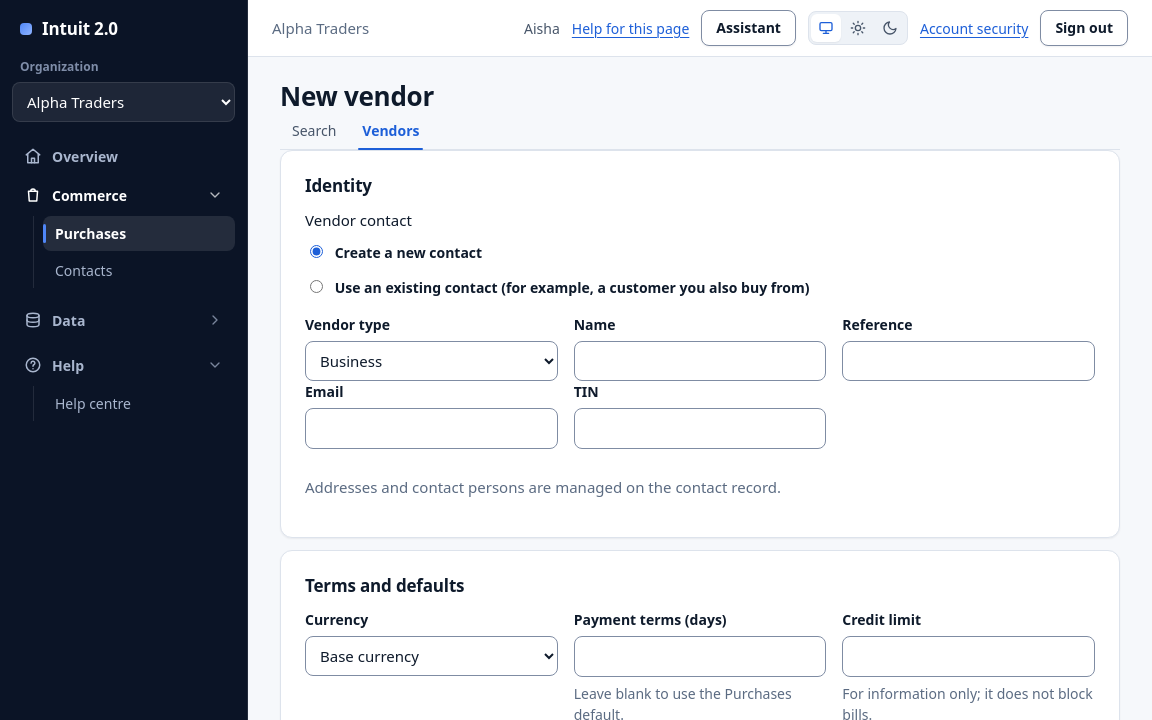
Test: creating vendors › makes an existing contact (e.g. a customer) a vendor
Click the radio button labelled "Use an existing contact (for example, a customer you also buy from)". click: [316, 286]
box: left=310, top=280, right=323, bottom=293
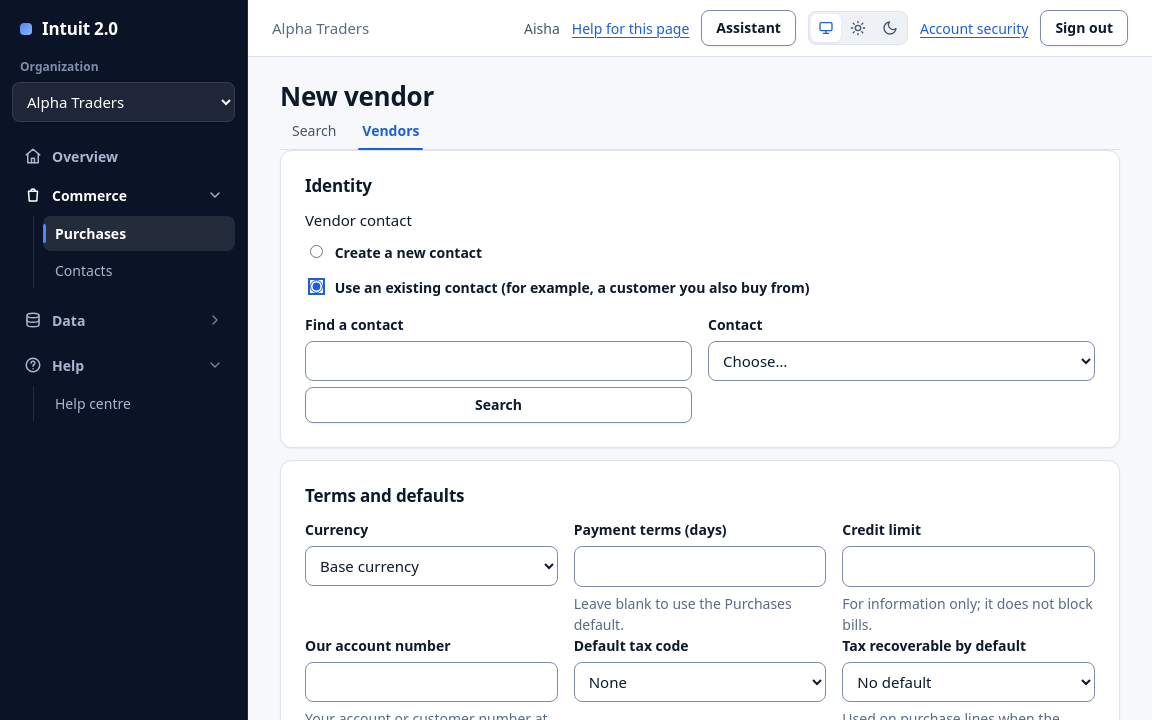
Select "Island Supplies (customer)" in the dropdown labelled "Contact". click: [902, 361]
box: left=708, top=341, right=1095, bottom=381
(page scrolled)
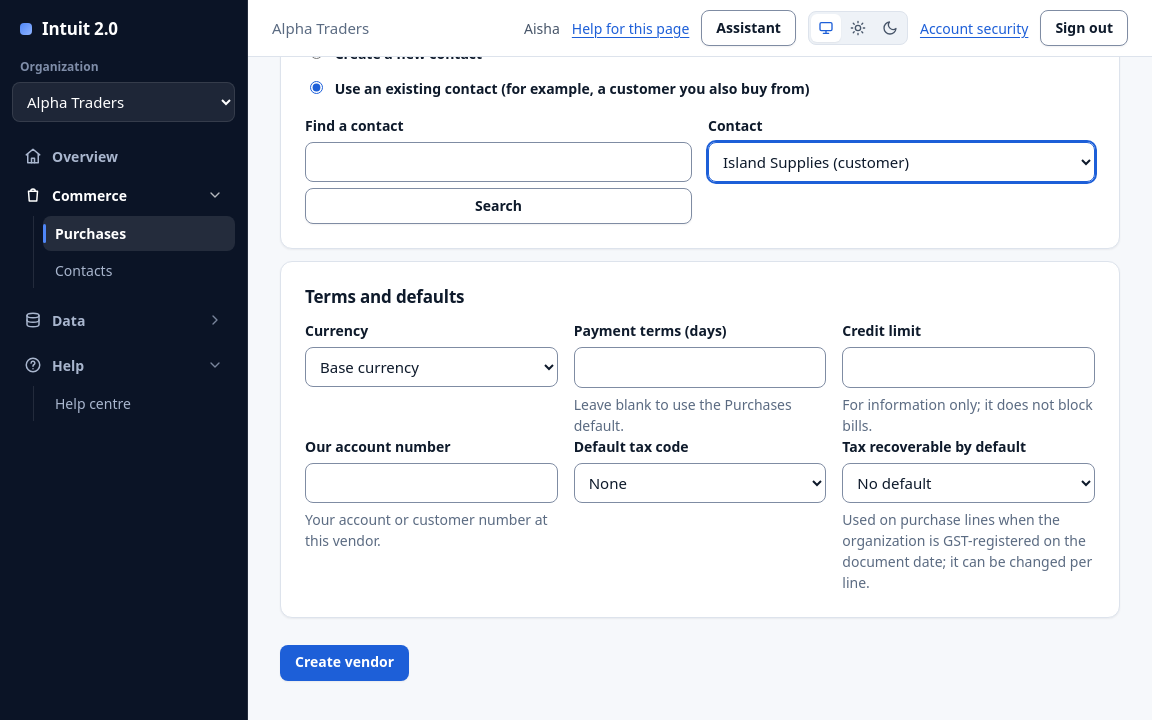
Click the button "Create vendor". click: [344, 663]
box: left=280, top=645, right=409, bottom=681
(page scrolled)
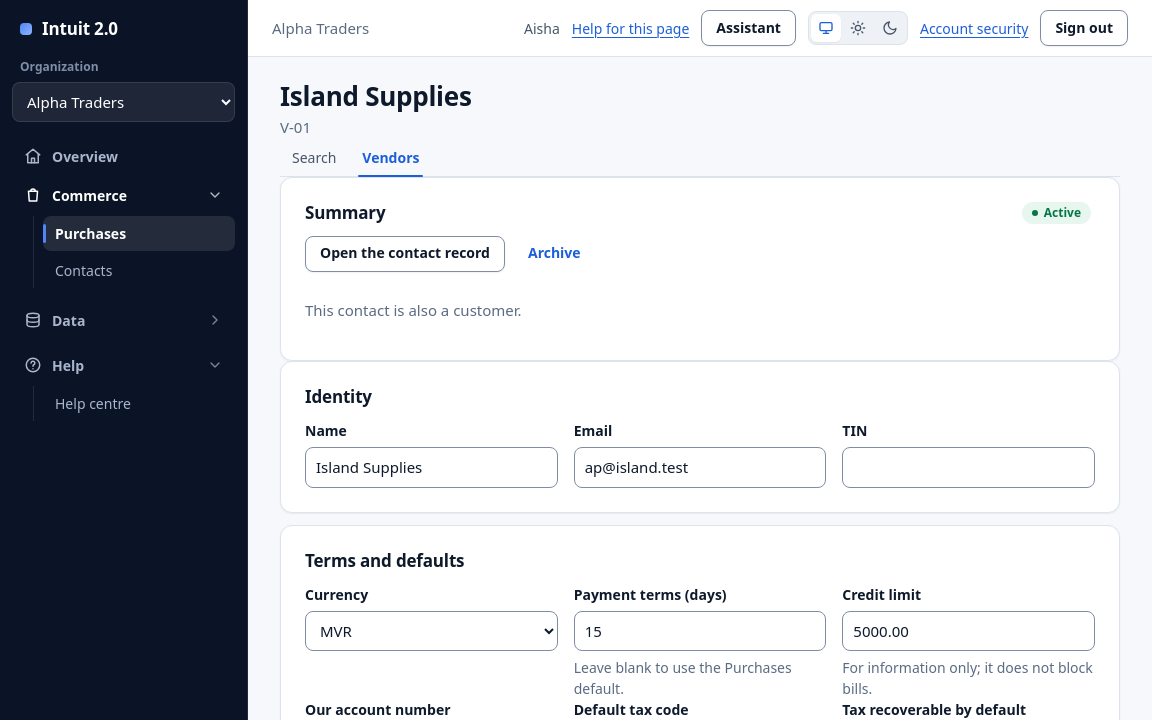
Expected: the heading "Island Supplies" is shown, left=280, top=78, right=472, bottom=114
